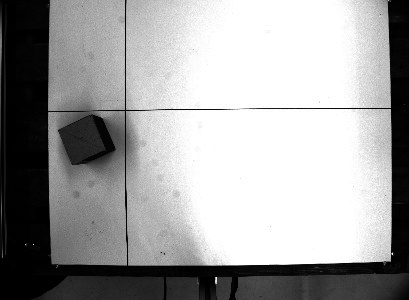b7: (55, 111, 117, 167)
